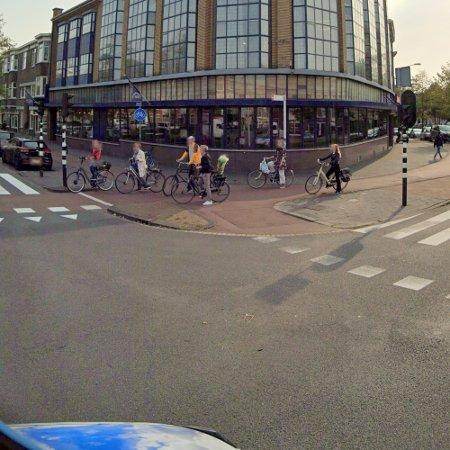crosswalks: (354, 207, 450, 254)
